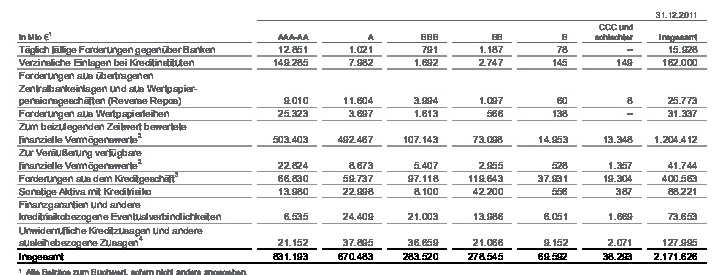table: (0, 0, 720, 275)
